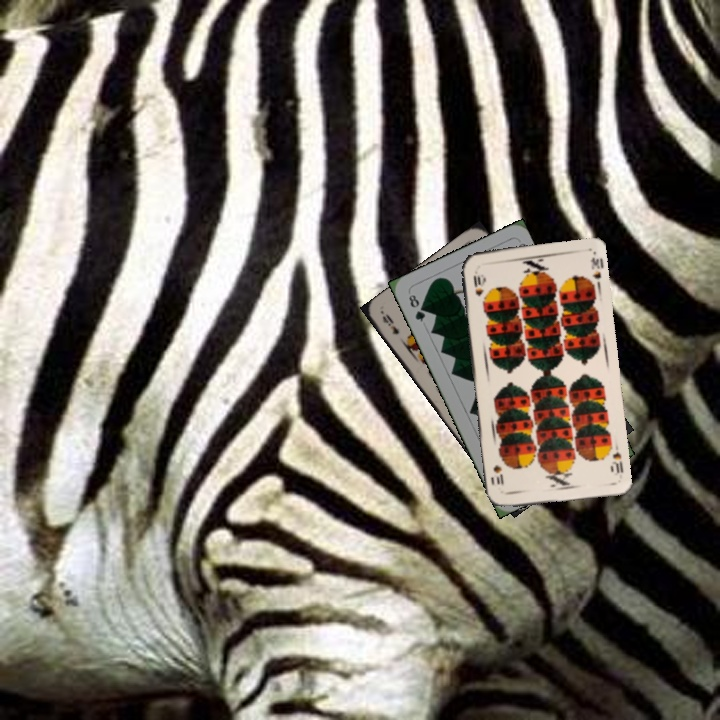E9: (378, 310, 402, 337)
G8: (404, 290, 428, 325)
S10: (606, 439, 626, 476), (469, 267, 485, 298)
